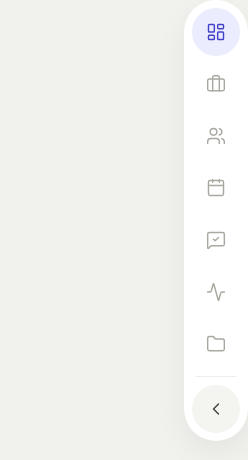
Test: FloatingRail › expands a flat rail in Persian RTL with the same item order (Teams)
This screenshot has width=248, height=460.
Click the button named "باز کردن ناوبری".
click(216, 409)  # box [192, 385, 240, 433]
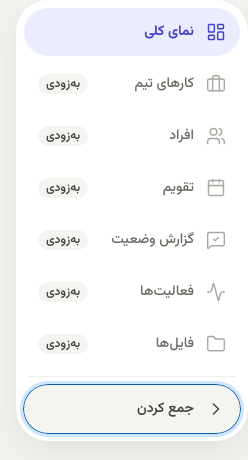
Expected: the text "نمای کلی" is shown, [144, 21, 194, 43]
Expected: the button with aria-label "جمع کردن ناوبری" is expanded, [24, 385, 240, 433]
